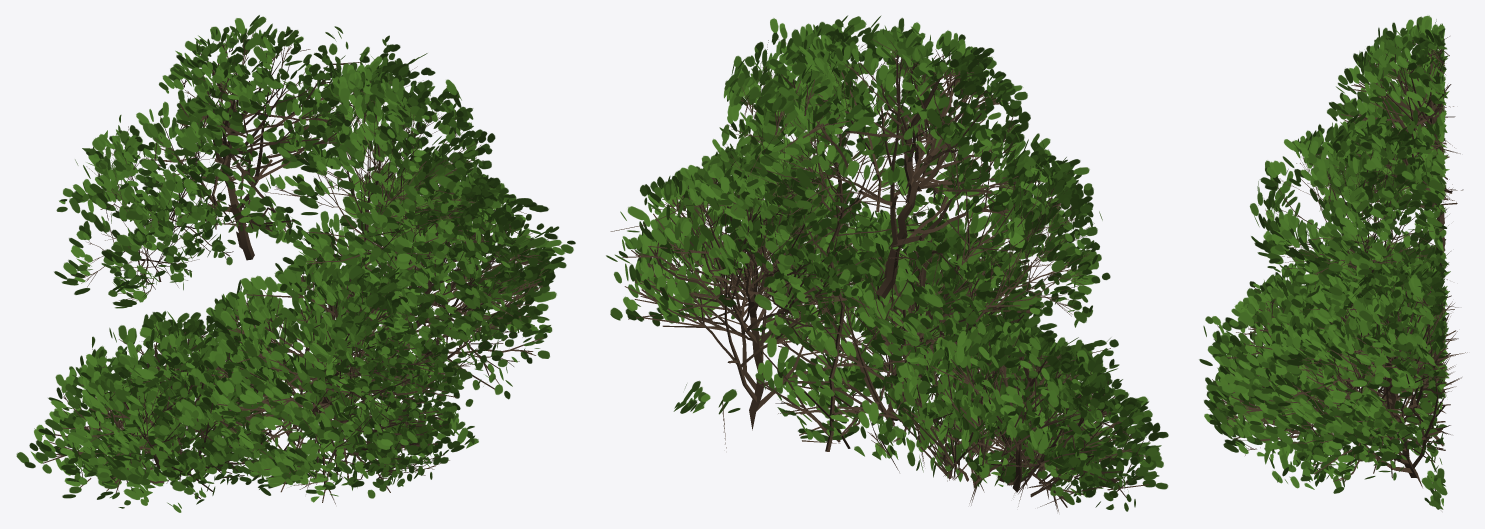
3 views of the same model, side by side, from view 1: azimuth 30°, elevation 25°; view 2: azimuth 150°, elevation 25°; view 3: azimuth 270°, elevation 25° (orthographic). The views are drawn at different scales.
Parts seen in each view (by area): view 1: oak 01.001_trunk_Mat.001_0.484; view 2: oak 01.001_trunk_Mat.001_0.484; view 3: oak 01.001_trunk_Mat.001_0.484.
Part boxes in pixels (<box>): oak 01.001_trunk_Mat.001_0.484: <box>16,15,575,512</box>; oak 01.001_trunk_Mat.001_0.484: <box>606,15,1168,511</box>; oak 01.001_trunk_Mat.001_0.484: <box>1199,15,1467,509</box>.
Bounding box in the file's own units: 3.98 × 3.27 × 1.95.
2 materials, 1 textured.
